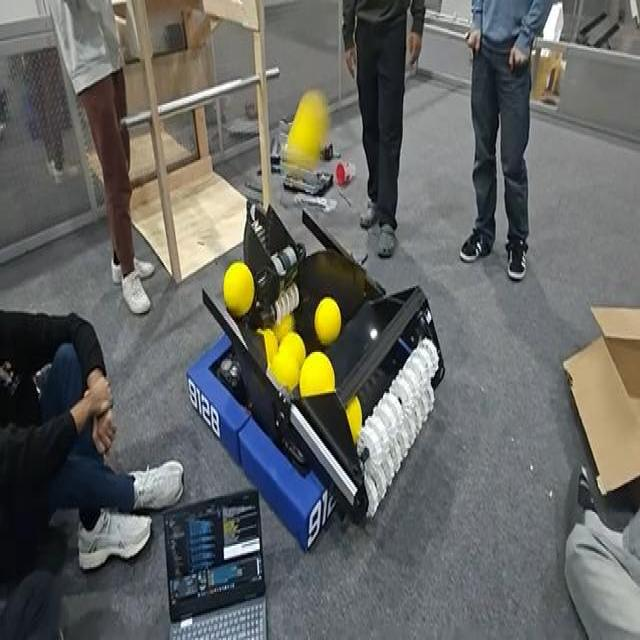Fuel: (286, 91, 329, 169), (223, 261, 255, 317), (299, 351, 335, 398), (223, 262, 254, 316), (299, 352, 334, 395), (314, 297, 340, 345), (270, 350, 299, 390), (279, 332, 305, 367), (346, 395, 362, 444), (346, 397, 363, 442), (258, 328, 278, 366), (258, 329, 278, 364), (274, 315, 294, 341)
